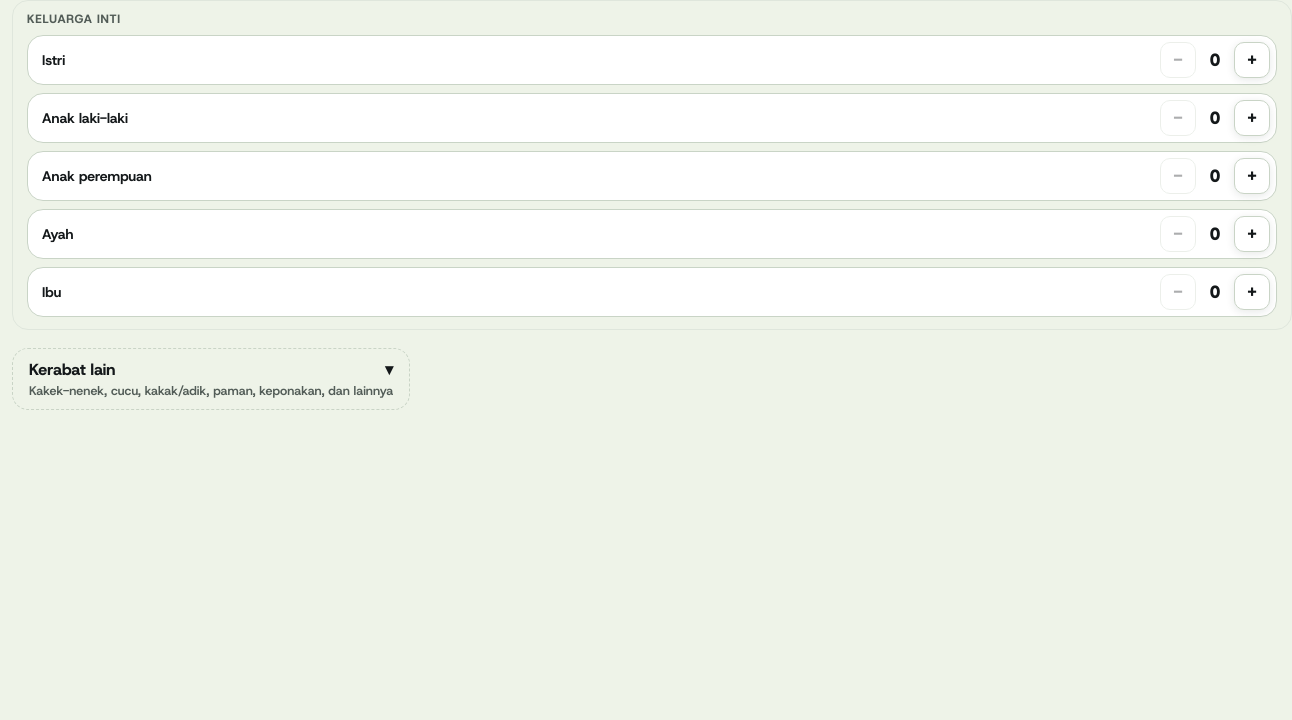
keterangan hubungan hanya tampil bila label belum cukup jelas
Click the button "Kerabat lain". click: (211, 379)
box: x1=12 y1=348 x2=410 y2=410
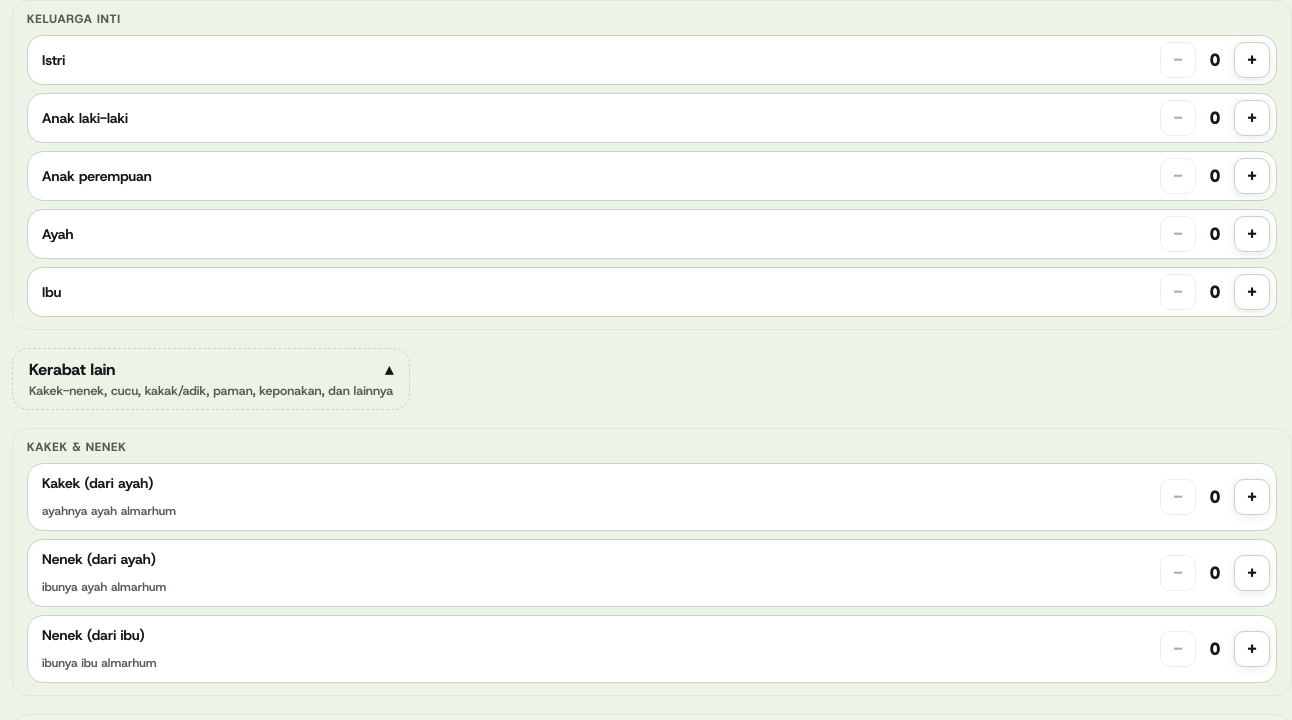
Expected: the text "ayahnya ayah almarhum" is shown, x1=42 y1=503 x2=176 y2=519
